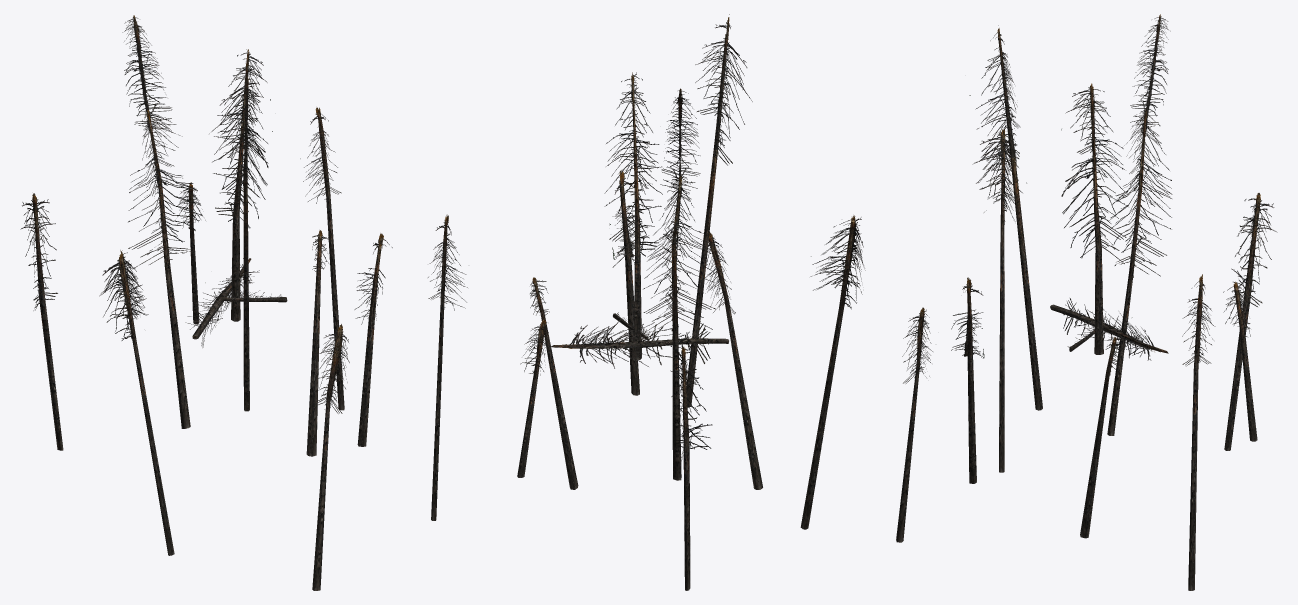
The model's file is tree_6_b.obj.
3 renders of one model, left to right at view 1: azimuth 30°, elevation 25°; view 2: azimuth 150°, elevation 25°; view 3: azimuth 270°, elevation 25°, orthographic. The views are drawn at different scales.
Bounding box in the file's own units: 19.29 × 27.47 × 19.1.
